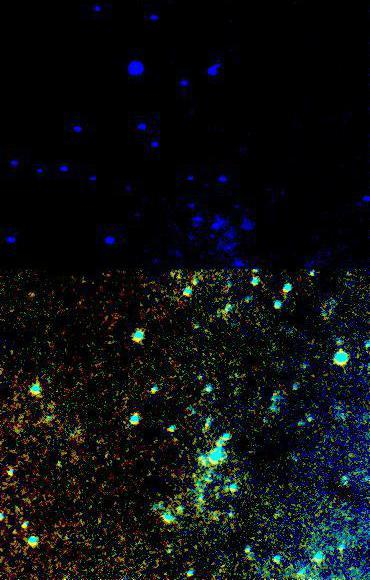star: (0, 518, 29, 548)
